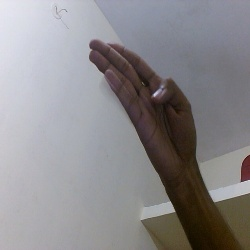hand: (76, 33, 214, 188)
